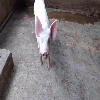heo: (32, 2, 57, 70)
